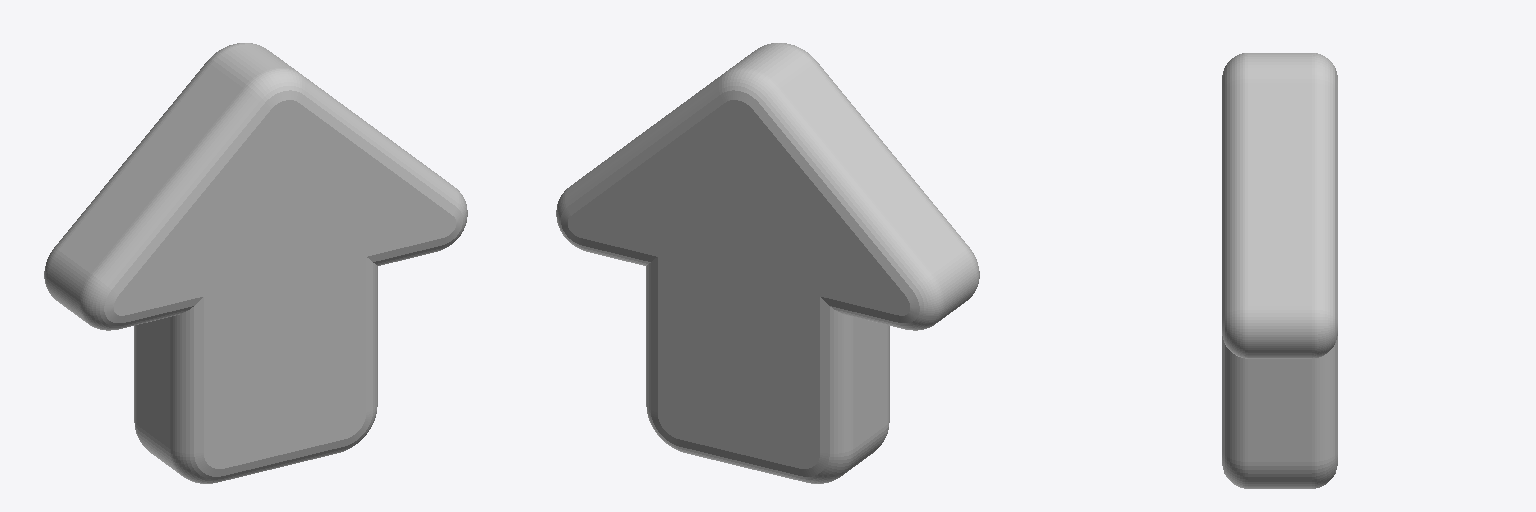
File: upvote_rounded_01.obj
The picture shows the model from 3 angles: view 1: azimuth 30°, elevation 25°; view 2: azimuth 150°, elevation 25°; view 3: azimuth 270°, elevation 25°; orthographic projection.
Visible parts, largest first — view 1: typeMesh1; view 2: typeMesh1; view 3: typeMesh1.
Part boxes in pixels (bbox=[...]): typeMesh1: bbox=[44, 43, 467, 483]; typeMesh1: bbox=[556, 43, 979, 483]; typeMesh1: bbox=[1222, 53, 1337, 488].
Bounding box in the file's own units: 17.23 × 17 × 4.5.